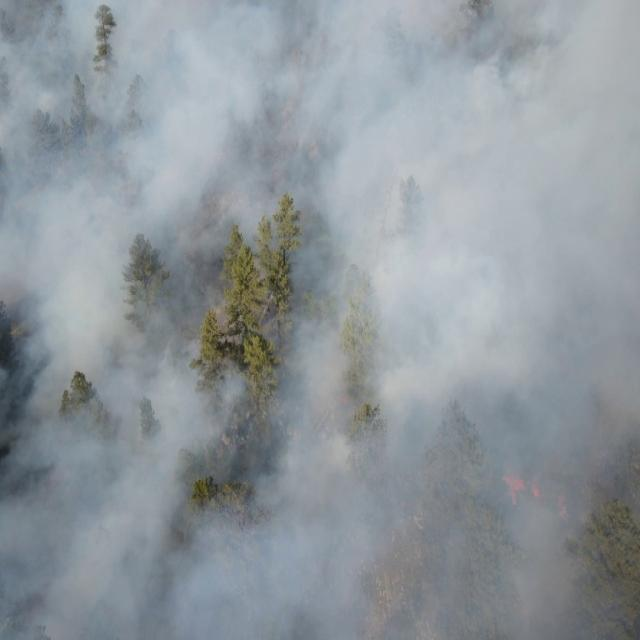fire: (503, 468, 544, 507), (555, 482, 570, 519)
smoke: (295, 194, 640, 640), (0, 0, 640, 194), (1, 190, 200, 640), (200, 371, 295, 640)
